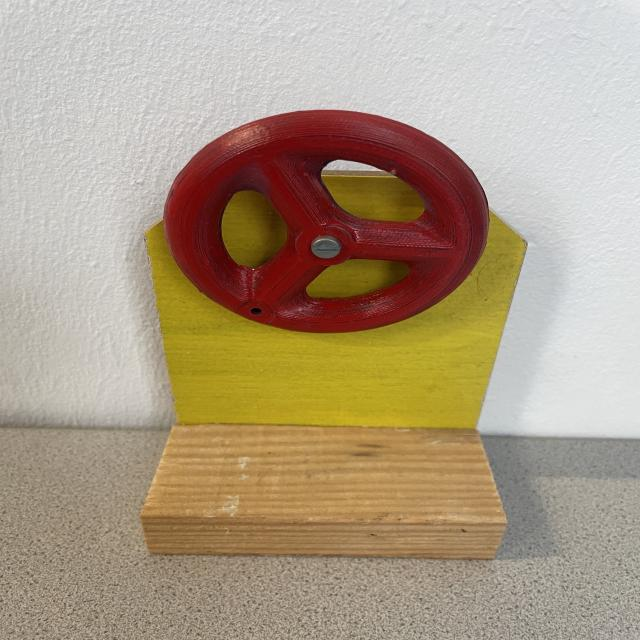Wheel Handle Valve Threaded: (162, 108, 490, 334)
